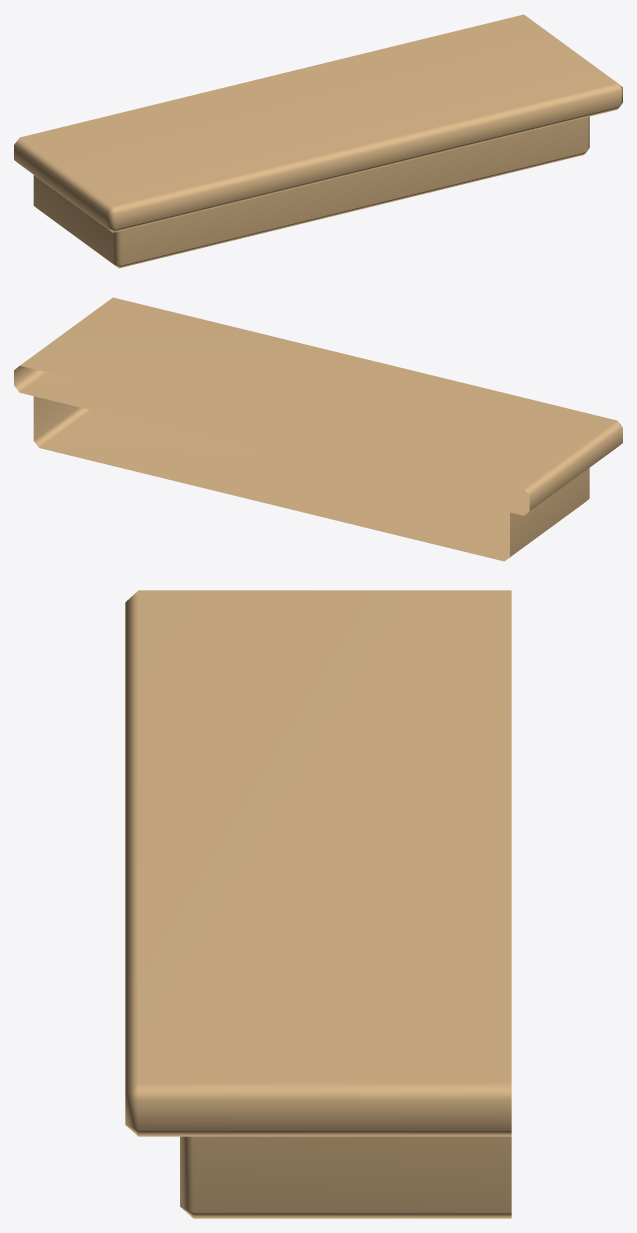
Rendered from DBK_WinSmall_Trim_E_Tile.fbx.
3 views of the same model, one above another, from view 1: azimuth 30°, elevation 25°; view 2: azimuth 150°, elevation 25°; view 3: azimuth 270°, elevation 25° (orthographic). The views are drawn at different scales.
Parts seen in each view (by area): view 1: DBK_WinSmall_Trim_E_Tile; view 2: DBK_WinSmall_Trim_E_Tile; view 3: DBK_WinSmall_Trim_E_Tile.
Boxes of the visible parts, x1=… form: DBK_WinSmall_Trim_E_Tile: x1=14, y1=14, x2=622, y2=268; DBK_WinSmall_Trim_E_Tile: x1=14, y1=297, x2=622, y2=561; DBK_WinSmall_Trim_E_Tile: x1=125, y1=590, x2=511, y2=1218.
Bounding box in the file's own units: 81.84 × 11.76 × 26.56.
